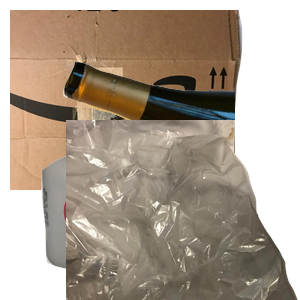cardboard: (10, 10, 245, 190)
glass: (60, 59, 300, 231)
plastic: (39, 149, 203, 300)
trash: (66, 120, 300, 300)
